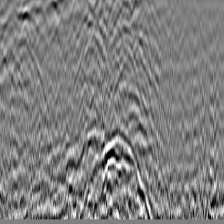cavities: (58, 127, 159, 223)
